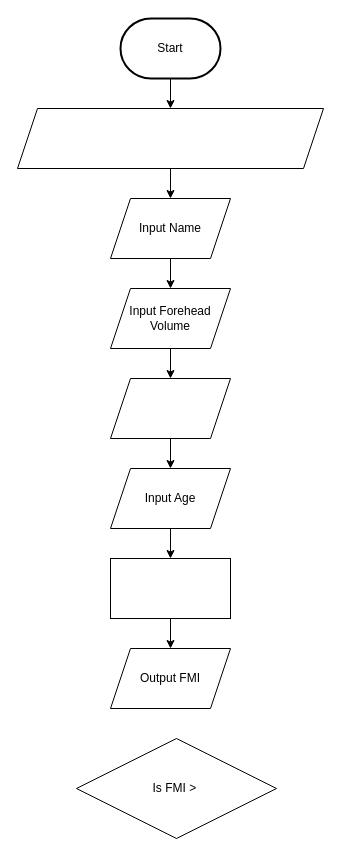
The diagram is 341 pixels wide and 856 high, and some of its shapes have lost their labels. The centre of each missing label's shape, as x and y in pixels:
Calculates FMI: the point at 170,588
Input Forehead Mass: the point at 170,408
Output "Welcome to Forehead Mass Index (FMI)": the point at 170,138
